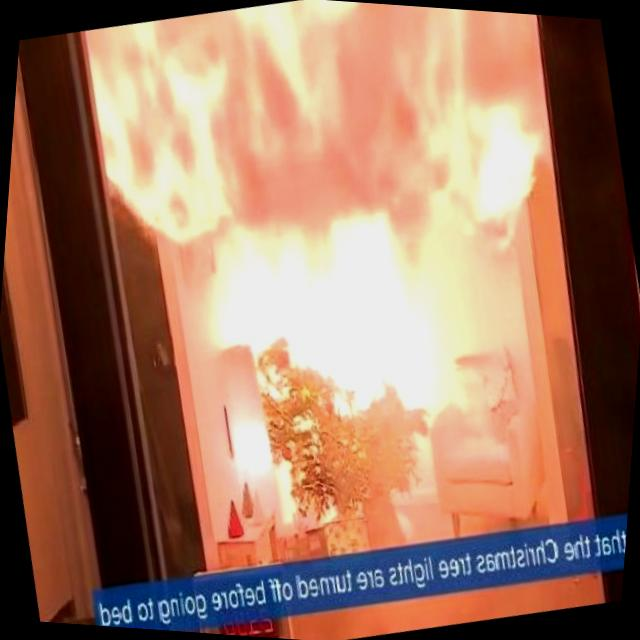fire: (51, 0, 608, 475)
